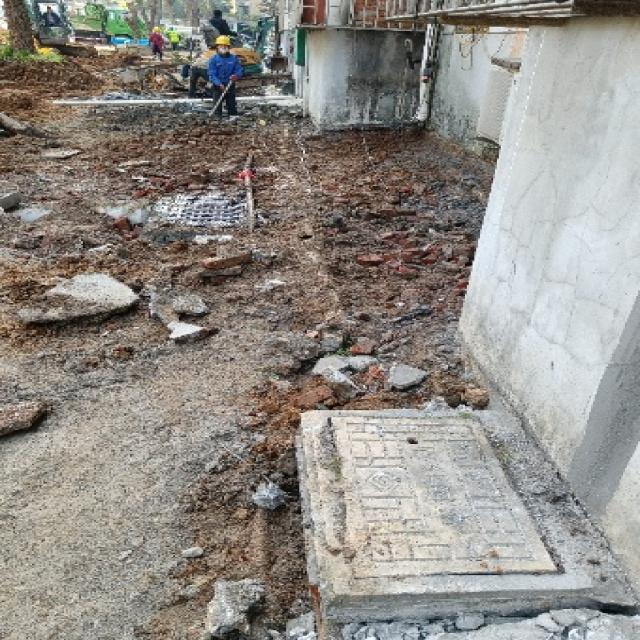Good: (293, 407, 602, 607)
